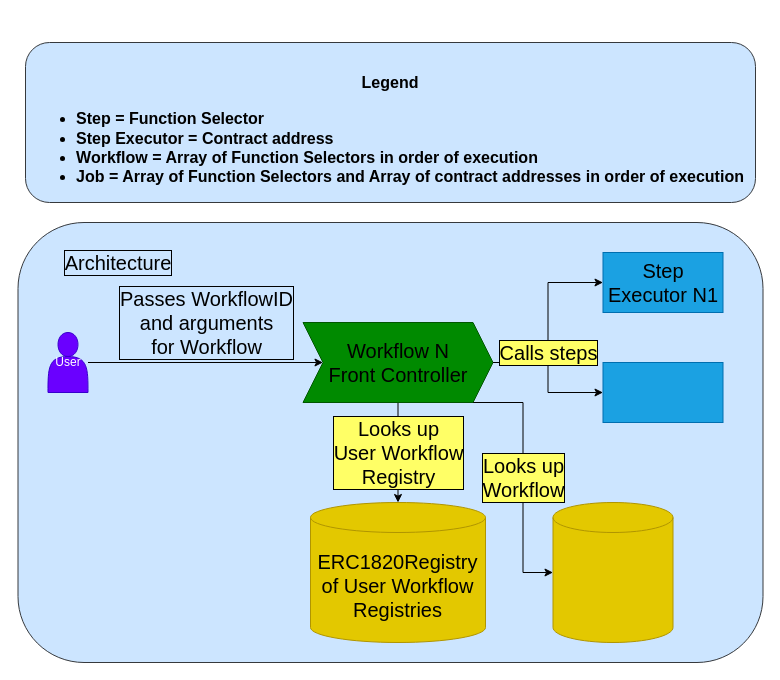
Image size: 780x680. Some labels were removed from this diagram. Each missing label, with the box of its shape:
Step Executor Nx: (602, 362, 723, 422)
User Workflow Registry: (552, 502, 673, 642)
